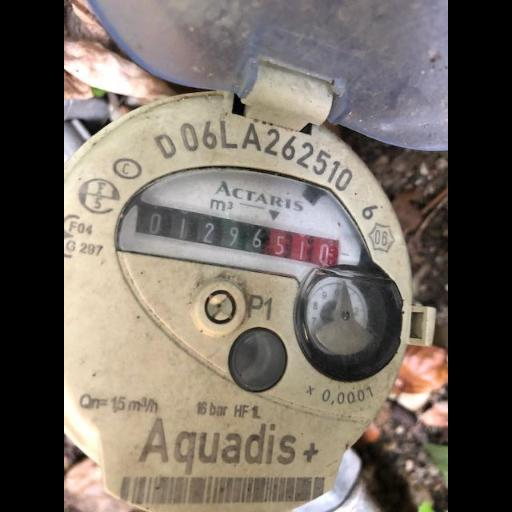0: (309, 236, 339, 268), (143, 203, 167, 237)
1: (168, 207, 194, 241), (288, 233, 312, 263)
2: (197, 213, 219, 246)
5: (267, 227, 290, 257)
6: (243, 224, 265, 254)
9: (217, 218, 243, 250)
border_water_meter_number: (134, 185, 349, 279)
